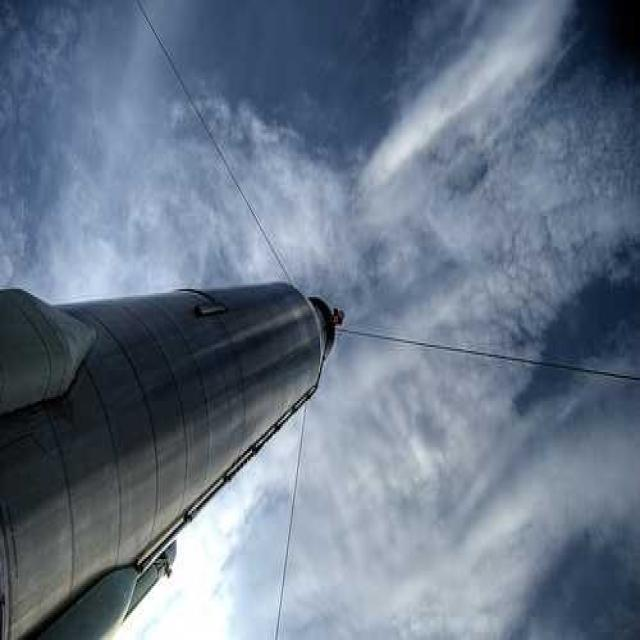missile: (0, 263, 349, 640)
